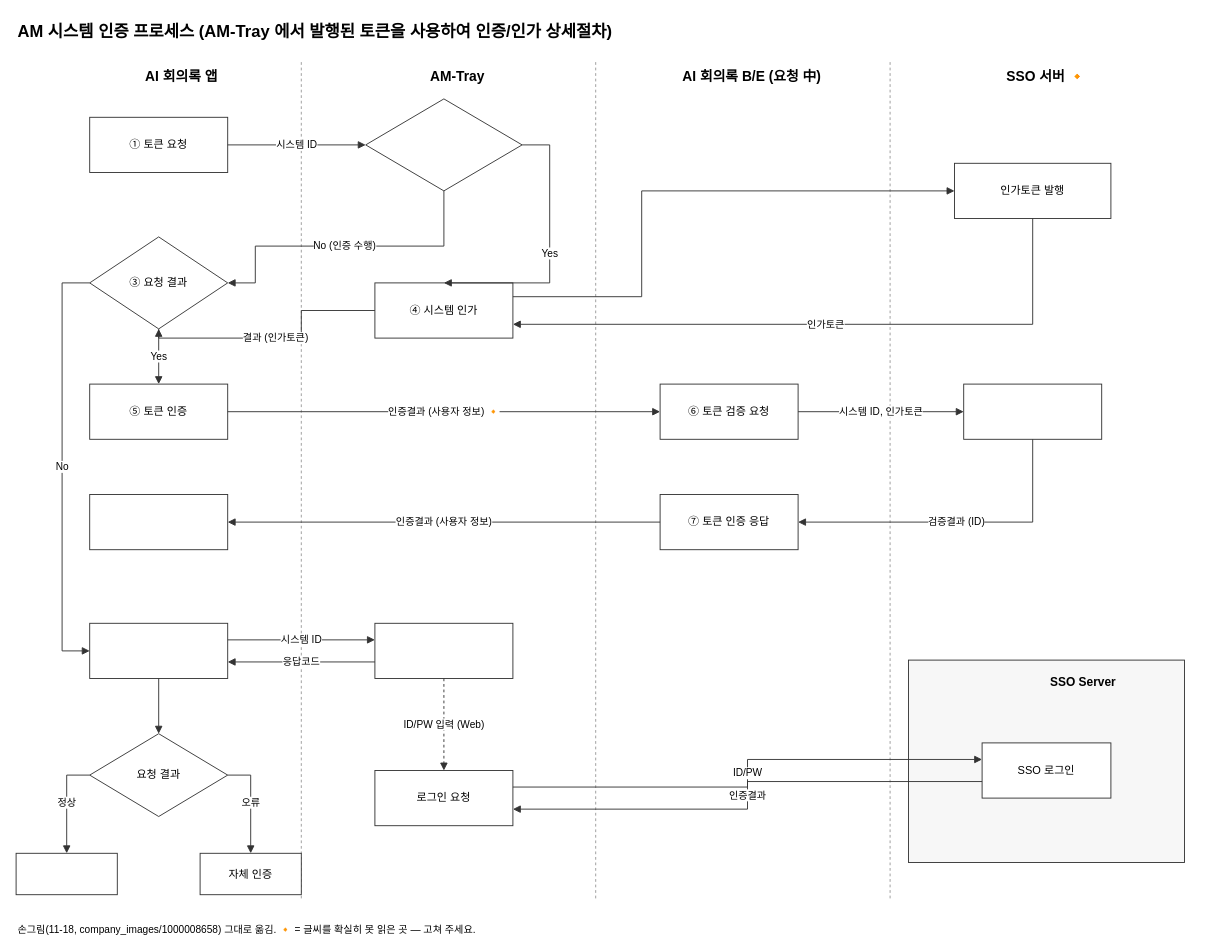
Image size: 1228x951. Some labels were removed from this diagram. Here are the shapes that lost their labels. From the top down, the centre of each, then its label:
At point 443,144: "② 인증상태".
At point 1032,411: "토큰 검증".
At point 158,522: "⑧ 로그인 완료".
At point 158,650: "로그인 UI 요청".
At point 443,650: "로그인 UI 구동/인증".
At point 66,873: "종료".
